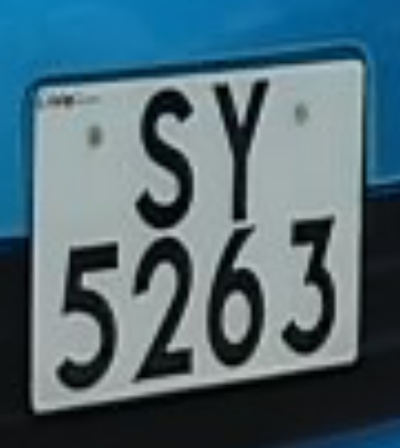2: (124, 228, 205, 393)
3: (272, 209, 348, 363)
5: (46, 224, 128, 404)
6: (200, 216, 276, 377)
S: (125, 74, 210, 238)
Y: (196, 66, 277, 238)
